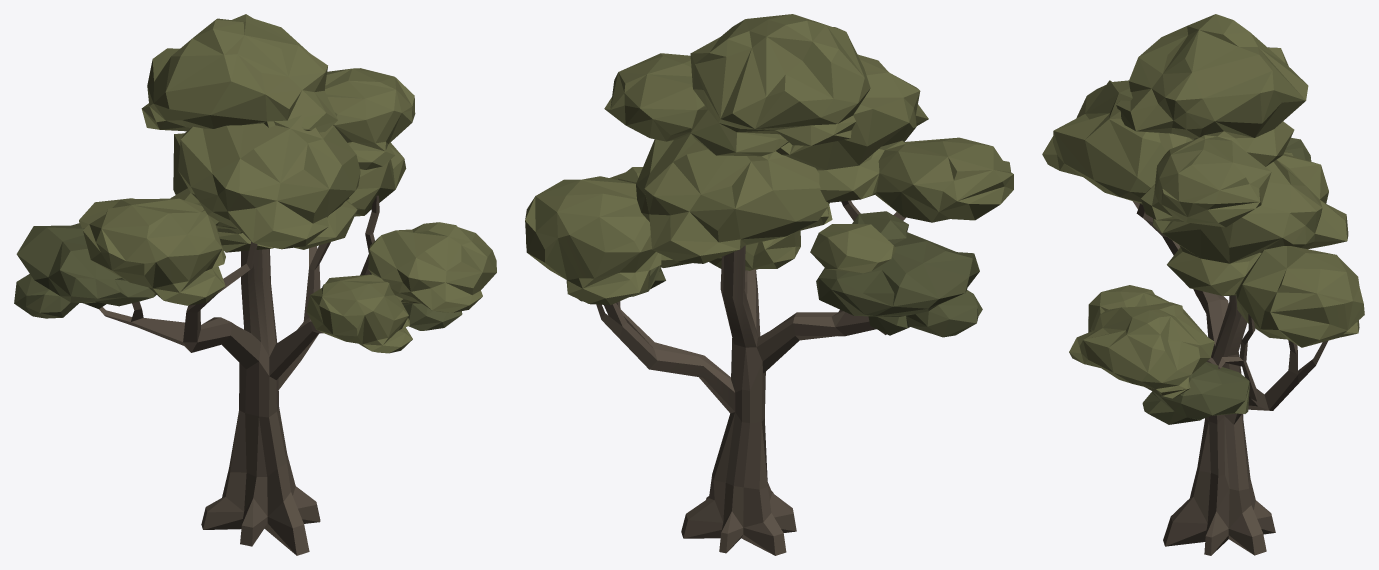
File: env_tree_large.gltf
3 views of the same model, side by side, from view 1: azimuth 30°, elevation 25°; view 2: azimuth 150°, elevation 25°; view 3: azimuth 270°, elevation 25° (orthographic). The views are drawn at different scales.
Parts seen in each view (by area): view 1: env_tree_large; view 2: env_tree_large; view 3: env_tree_large.
Part boxes in pixels (left/top/right/bottom): env_tree_large: left=14, top=14, right=496, bottom=555; env_tree_large: left=525, top=14, right=1013, bottom=555; env_tree_large: left=1042, top=14, right=1364, bottom=555.
Size of the model in its own units: 14.53 by 16.89 by 9.88.
1 material, 1 textured.
